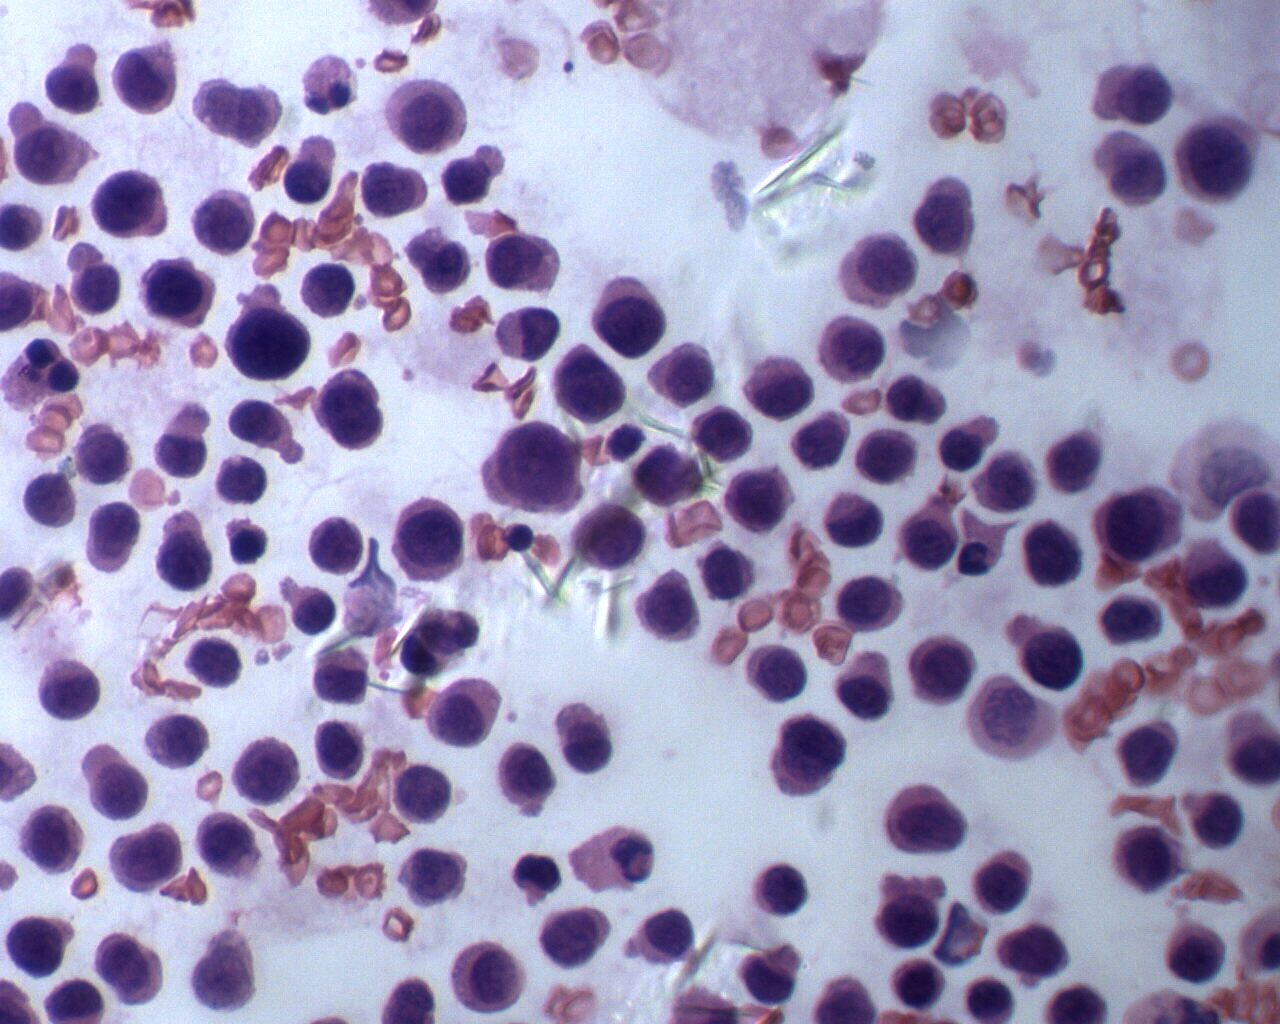ab: (478, 417, 588, 515), (1173, 100, 1265, 209), (1091, 480, 1188, 572), (881, 775, 977, 863), (377, 78, 476, 160), (391, 493, 471, 587), (93, 924, 178, 1013), (552, 342, 632, 430), (591, 271, 670, 362), (85, 167, 172, 248), (443, 938, 534, 1014), (904, 629, 984, 714), (137, 255, 225, 332), (107, 822, 191, 902), (1104, 818, 1188, 897), (317, 363, 391, 450), (17, 802, 95, 883), (718, 460, 796, 539), (909, 171, 980, 257), (113, 42, 189, 120), (227, 735, 308, 808), (630, 569, 708, 645), (1114, 717, 1186, 797), (78, 501, 147, 582), (189, 185, 263, 259), (970, 841, 1038, 921), (485, 226, 565, 293), (741, 352, 815, 424), (834, 564, 908, 634), (538, 903, 613, 970), (1160, 923, 1234, 990), (819, 313, 887, 385), (897, 501, 959, 576), (493, 305, 563, 370), (496, 736, 559, 807), (34, 659, 102, 723), (649, 342, 718, 404), (744, 642, 809, 705), (308, 721, 370, 779)
lymph: (498, 520, 538, 559)
